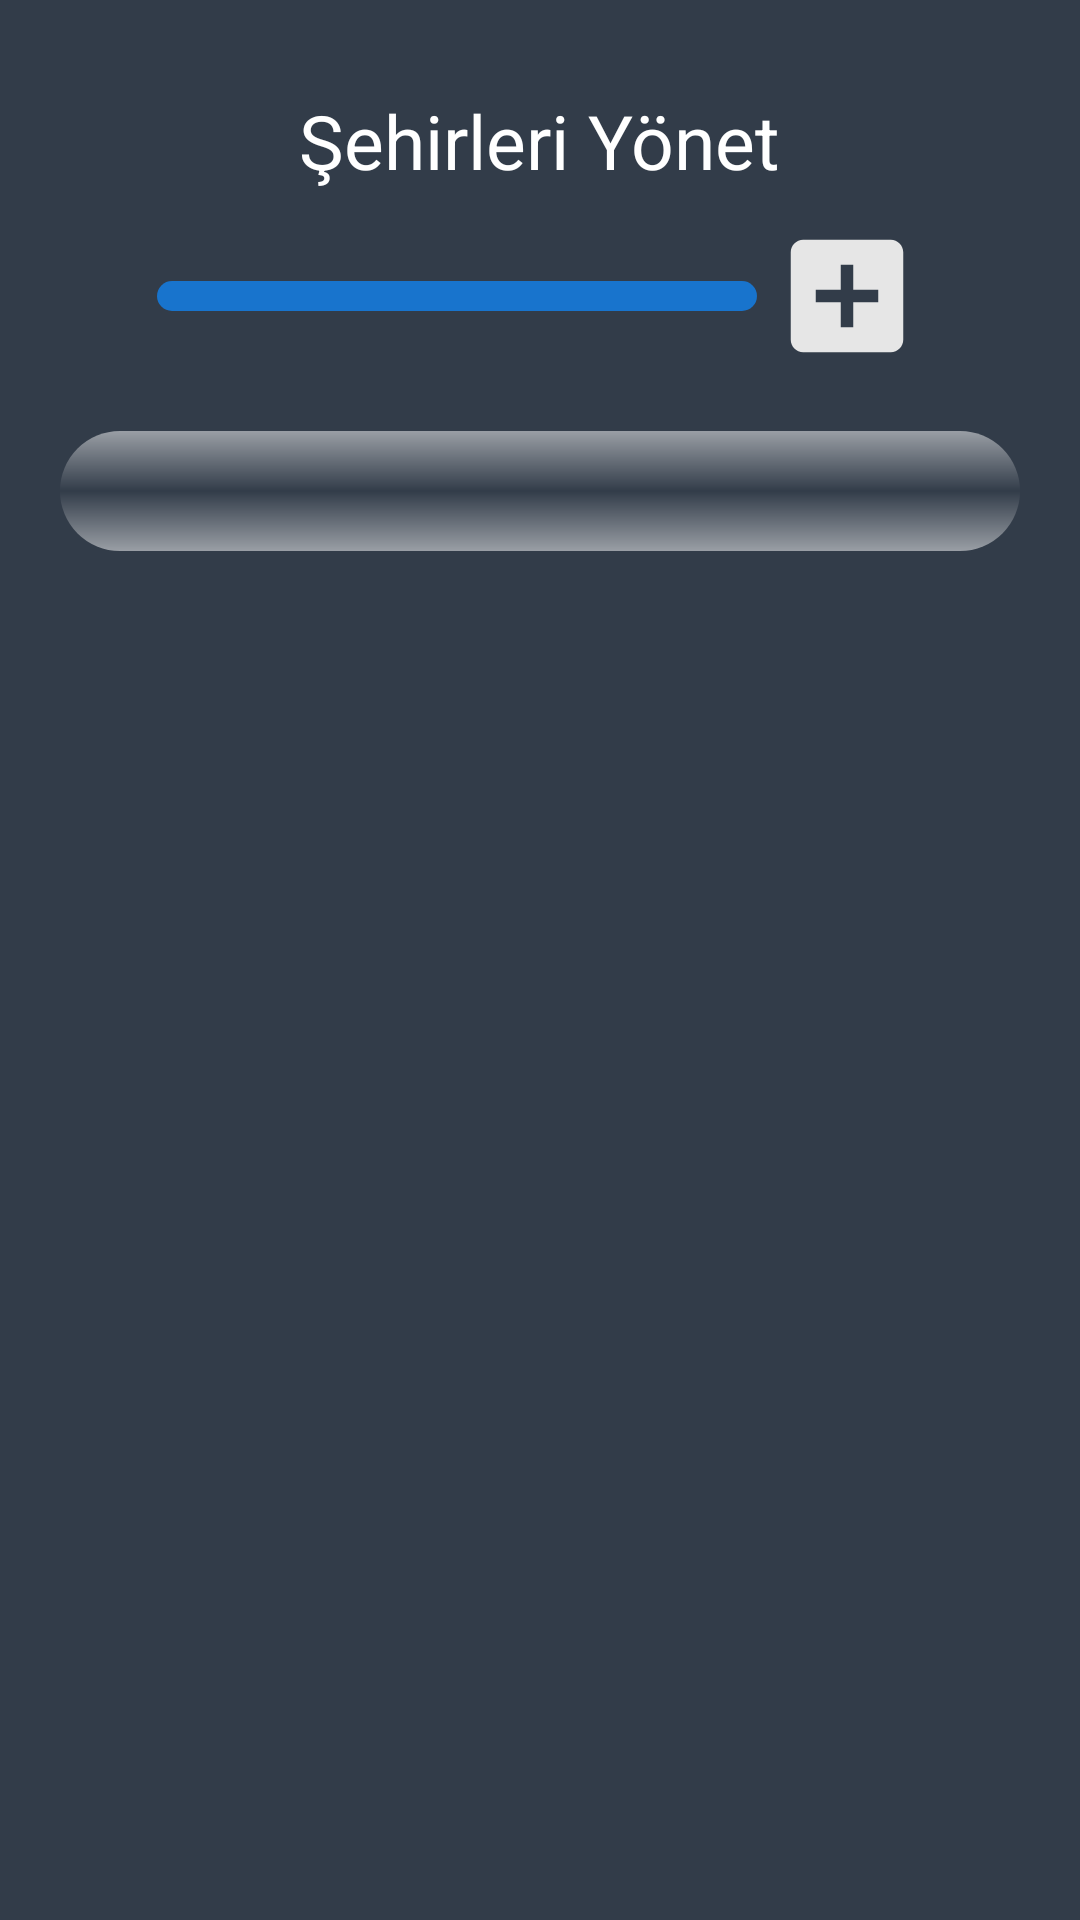

Icons on this 1080px×1920px Android screen, each with the point to tap as (x=x, y=y):
add: (x=847, y=296)
